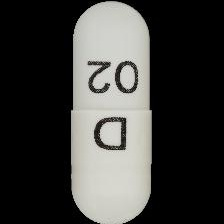10544-185: (0, 0, 224, 224)
